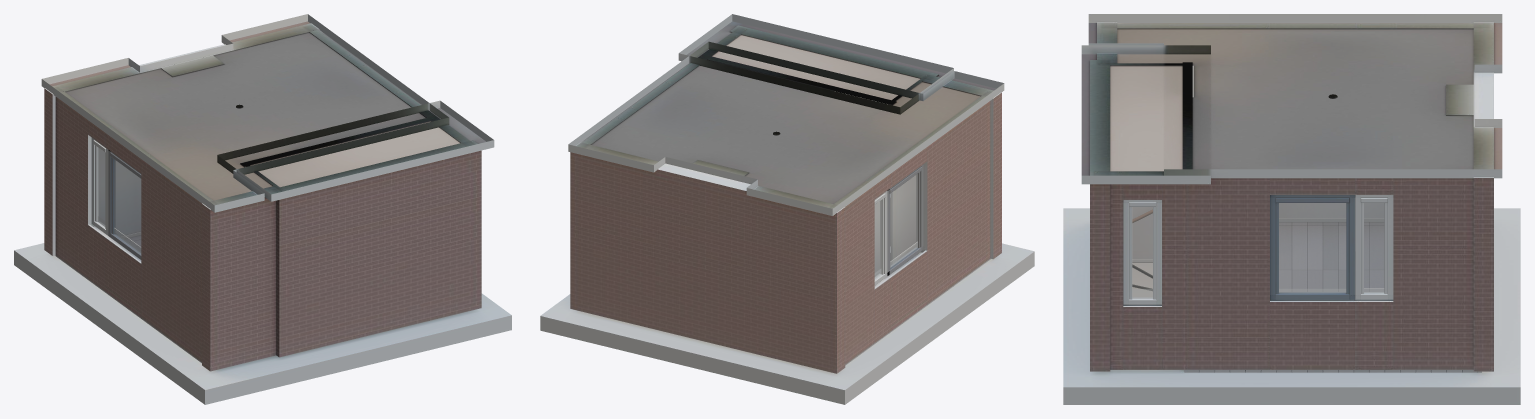
File: floor2-walls.glb
The picture shows the model from 3 angles, left to right: view 1: azimuth 30°, elevation 25°; view 2: azimuth 150°, elevation 25°; view 3: azimuth 270°, elevation 25°; orthographic projection. The views are drawn at different scales.
Parts seen in each view (by area): view 1: realism__ceiling_Attic room_kept, wall__W-south-stair_0_0, shell__plinth, LowWall__wall__W-south-stair_0_0, realism__ceiling_Stairwell (open to Floor 1)_kept, wall__W-west_0_5, wall__W-south-alcove_0_0, LowWall__wall__W-south-alcove_0_0, wall__W-west_0_0, wall__W-north_0_0, LowWall__wall__W-west_0_5, LowWall__wall__W-north_0_0 (+10 smaller); view 2: wall__W-north_0_0, realism__ceiling_Attic room_kept, LowWall__wall__W-north_0_0, shell__plinth, realism__ceiling_Stairwell (open to Floor 1)_kept, wall__W-west_0_5, wall__W-west_0_0, LowWall__wall__W-west_0_5, wall__W-south-alcove_0_0, wall__W-west_0_3, window__W-west_0_4_B_pbr, wall__W-south-stair_0_0 (+9 smaller); view 3: realism__ceiling_Attic room_kept, shell__plinth, wall__W-east-room_0_5, realism__ceiling_Stairwell (open to Floor 1)_kept, wall__W-east-room_0_0, Floor__attic_room, LowWall__wall__W-east-room_0_0, window__W-east-room_0_4_B_pbr, wall__W-south-stair_0_0, wall__W-east-room_0_3, wall__W-north_0_0, wall__W-east-stair_0_0 (+23 smaller).
Boxes of the visible parts, <box> form: realism__ceiling_Attic room_kept: <box>41,14,449,212</box>; wall__W-south-stair_0_0: <box>276,140,481,357</box>; shell__plinth: <box>14,243,511,404</box>; LowWall__wall__W-south-stair_0_0: <box>276,244,481,357</box>; realism__ceiling_Stairwell (open to Floor 1)_kept: <box>217,100,494,201</box>; wall__W-west_0_5: <box>141,154,218,361</box>; wall__W-south-alcove_0_0: <box>202,186,282,370</box>; LowWall__wall__W-south-alcove_0_0: <box>202,291,276,371</box>; wall__W-west_0_0: <box>55,91,96,278</box>; wall__W-north_0_0: <box>44,23,319,255</box>; LowWall__wall__W-west_0_5: <box>141,253,201,361</box>; LowWall__wall__W-north_0_0: <box>44,172,141,255</box>; wall__W-north_0_0: <box>570,142,845,373</box>; realism__ceiling_Attic room_kept: <box>568,41,1004,215</box>; LowWall__wall__W-north_0_0: <box>570,245,845,373</box>; shell__plinth: <box>540,243,1034,404</box>; realism__ceiling_Stairwell (open to Floor 1)_kept: <box>678,14,953,114</box>; wall__W-west_0_5: <box>919,91,990,303</box>; wall__W-west_0_0: <box>834,180,874,363</box>; LowWall__wall__W-west_0_5: <box>921,194,990,304</box>; wall__W-south-alcove_0_0: <box>922,74,1001,258</box>; wall__W-west_0_3: <box>890,250,927,330</box>; window__W-west_0_4_B_pbr: <box>890,174,917,266</box>; wall__W-south-stair_0_0: <box>729,25,938,78</box>; realism__ceiling_Attic room_kept: <box>1088,14,1502,178</box>; shell__plinth: <box>1063,208,1520,404</box>; wall__W-east-room_0_5: <box>1187,178,1269,369</box>; realism__ceiling_Stairwell (open to Floor 1)_kept: <box>1081,45,1210,184</box>; wall__W-east-room_0_0: <box>1393,178,1473,292</box>; Floor__attic_room: <box>1184,222,1481,372</box>; LowWall__wall__W-east-room_0_0: <box>1393,292,1473,369</box>; window__W-east-room_0_4_B_pbr: <box>1279,203,1345,292</box>; wall__W-south-stair_0_0: <box>1090,60,1110,371</box>; wall__W-east-room_0_3: <box>1270,301,1354,369</box>; wall__W-north_0_0: <box>1473,22,1493,371</box>; wall__W-east-stair_0_0: <box>1162,171,1187,369</box>.
Size of the model in its own units: 5.2 by 3.03 by 5.61.
Materials: 15 (8 with a texture image).
